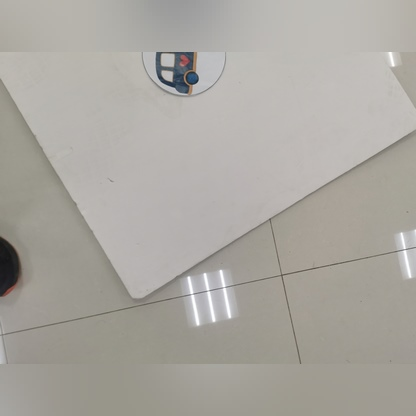car: (147, 41, 223, 93)
